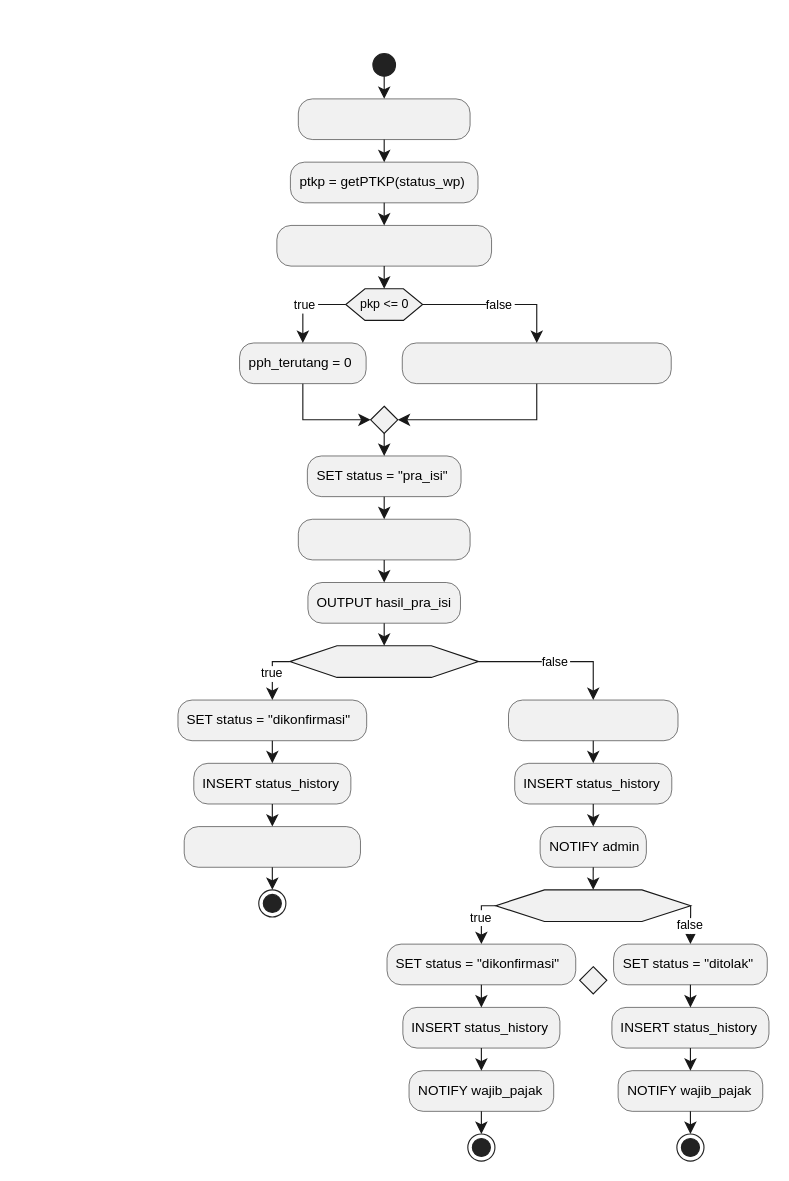
This 789x1181 diagram has some shape labels left out. The centre of each missing label's shape, as x and y in pixels:
INPUT data_penghasilan: point 384,118
input_user == "konfirmasi": point 384,661
keputusan_admin == "setuju": point 593,905
OUTPUT bukti_konfirmasi: point 271,846
pkp = total_penghasilan - ptkp: point 383,245
pph_terutang = hitungTarifProgresif(pkp): point 536,362
SET status = "dikoreksi": point 593,719
STORE pph_calculations: point 384,539
